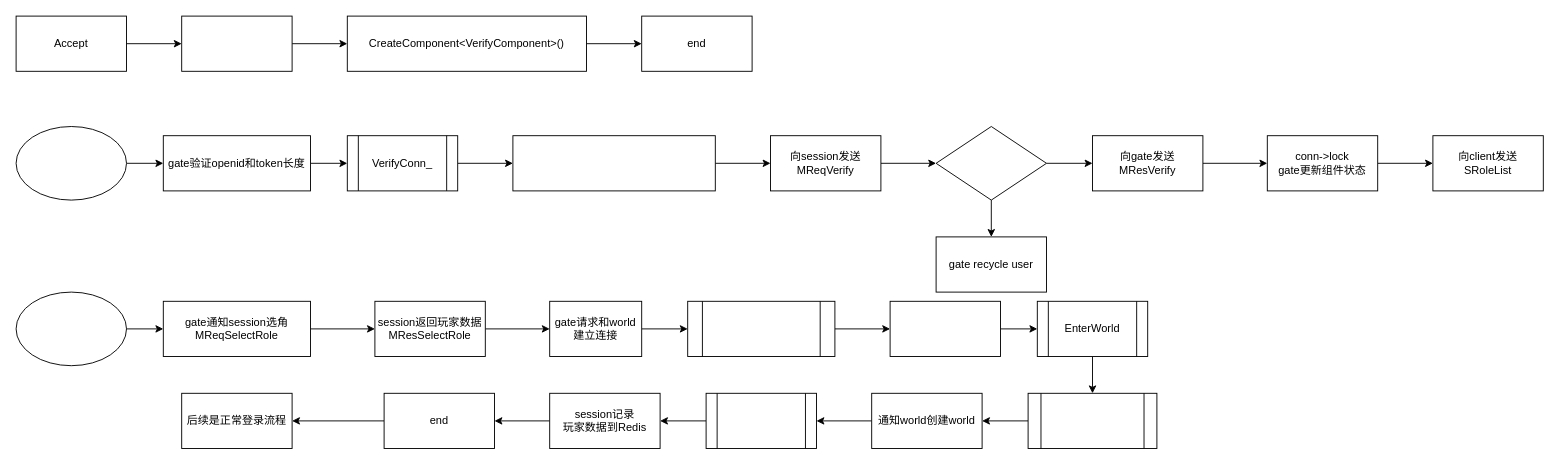
The diagram is 1559 pixels wide and 465 high, and some of its shapes have lost their labels. The centre of each missing label's shape, as x and y in pixels:
CLoginGame: the point at 70,163
CreateComponent<LoginComponent>() 生成玩家的session_id 记录到状态到gate: the point at 613,163
CreateUserEntity: the point at 236,43
CSelectRole: the point at 70,328
MReqCreateWorld: the point at 1092,420
MResEnterWorld: the point at 760,420
ReqEstablishedNode: the point at 761,328
session验证通过: the point at 990,163
回调 EnterWorld: the point at 944,328
